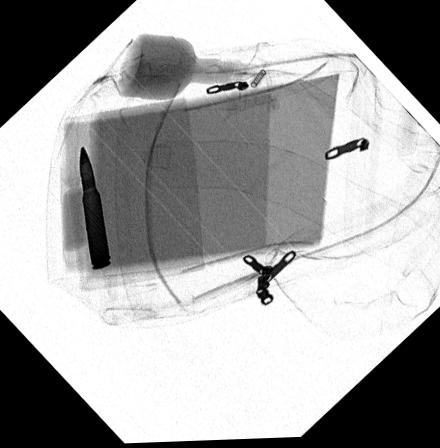Bullet: (78, 144, 112, 270)
